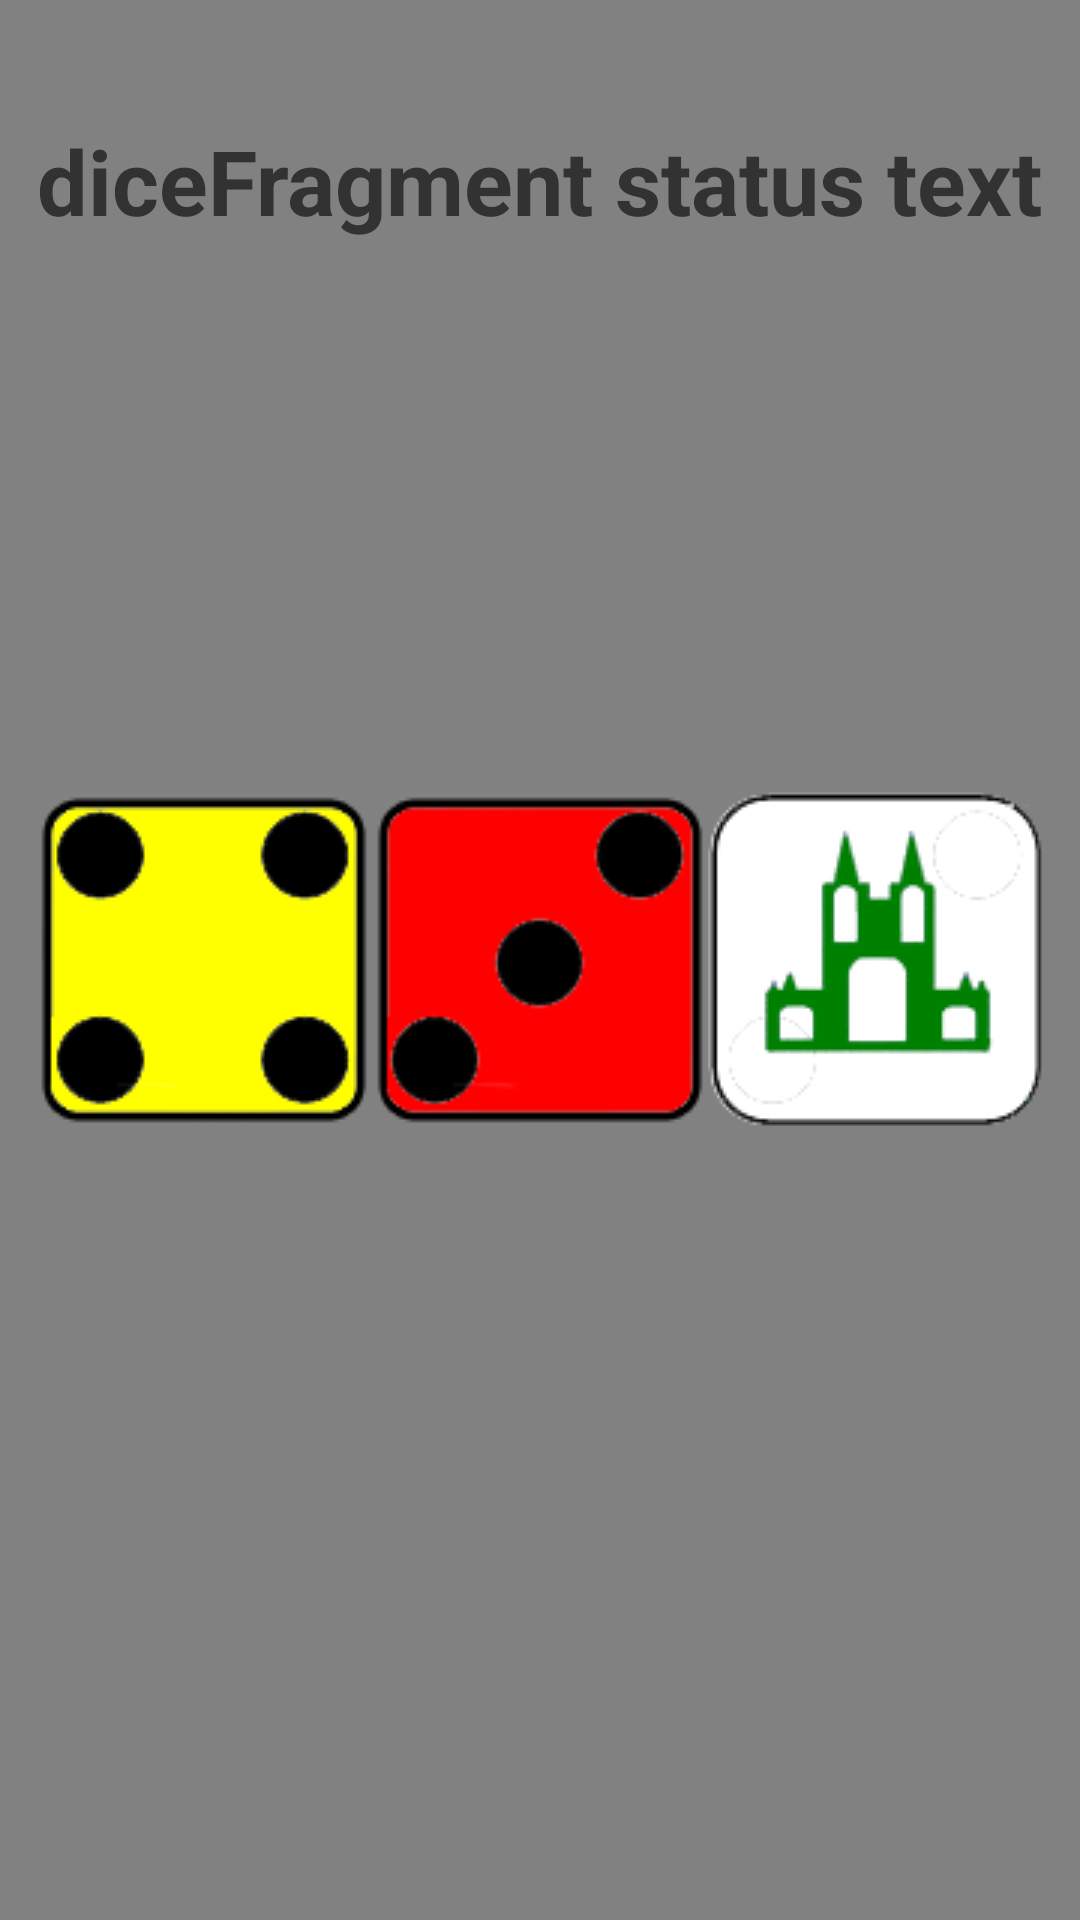

Point at icon controls on the screen. Image size 1080px x 1920px, points as (x,y).
Red die: (540,960)
Yellow die: (204,960)
